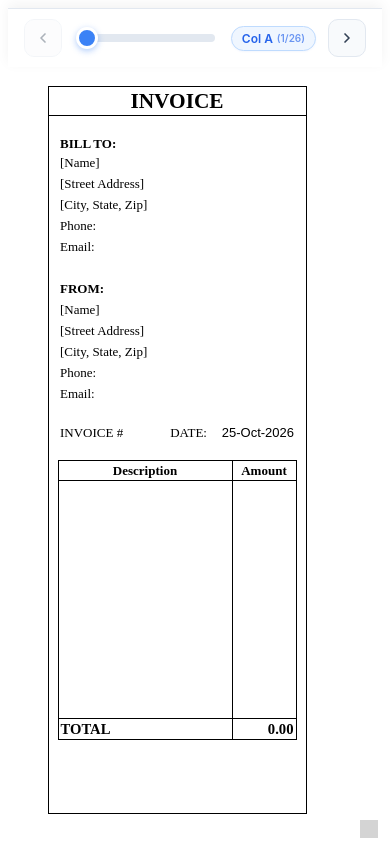
Test: HorizontalScrollBar › arrow buttons scroll by `step` columns
Step 1. Click the button named "Scroll Right" → {"x": 347, "y": 38}, box x1=328 y1=19 x2=366 y2=57
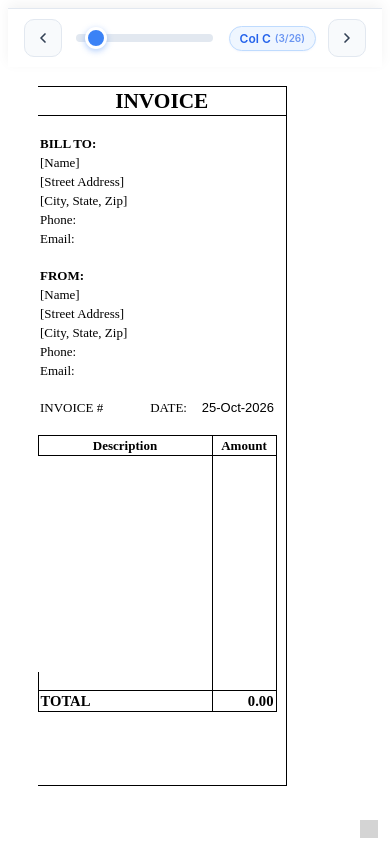
Now the slider named "Horizontal Column Slider" holds "3", box x1=76 y1=34 x2=213 y2=42
Now the text "Col C" is shown, box x1=240 y1=30 x2=271 y2=46
